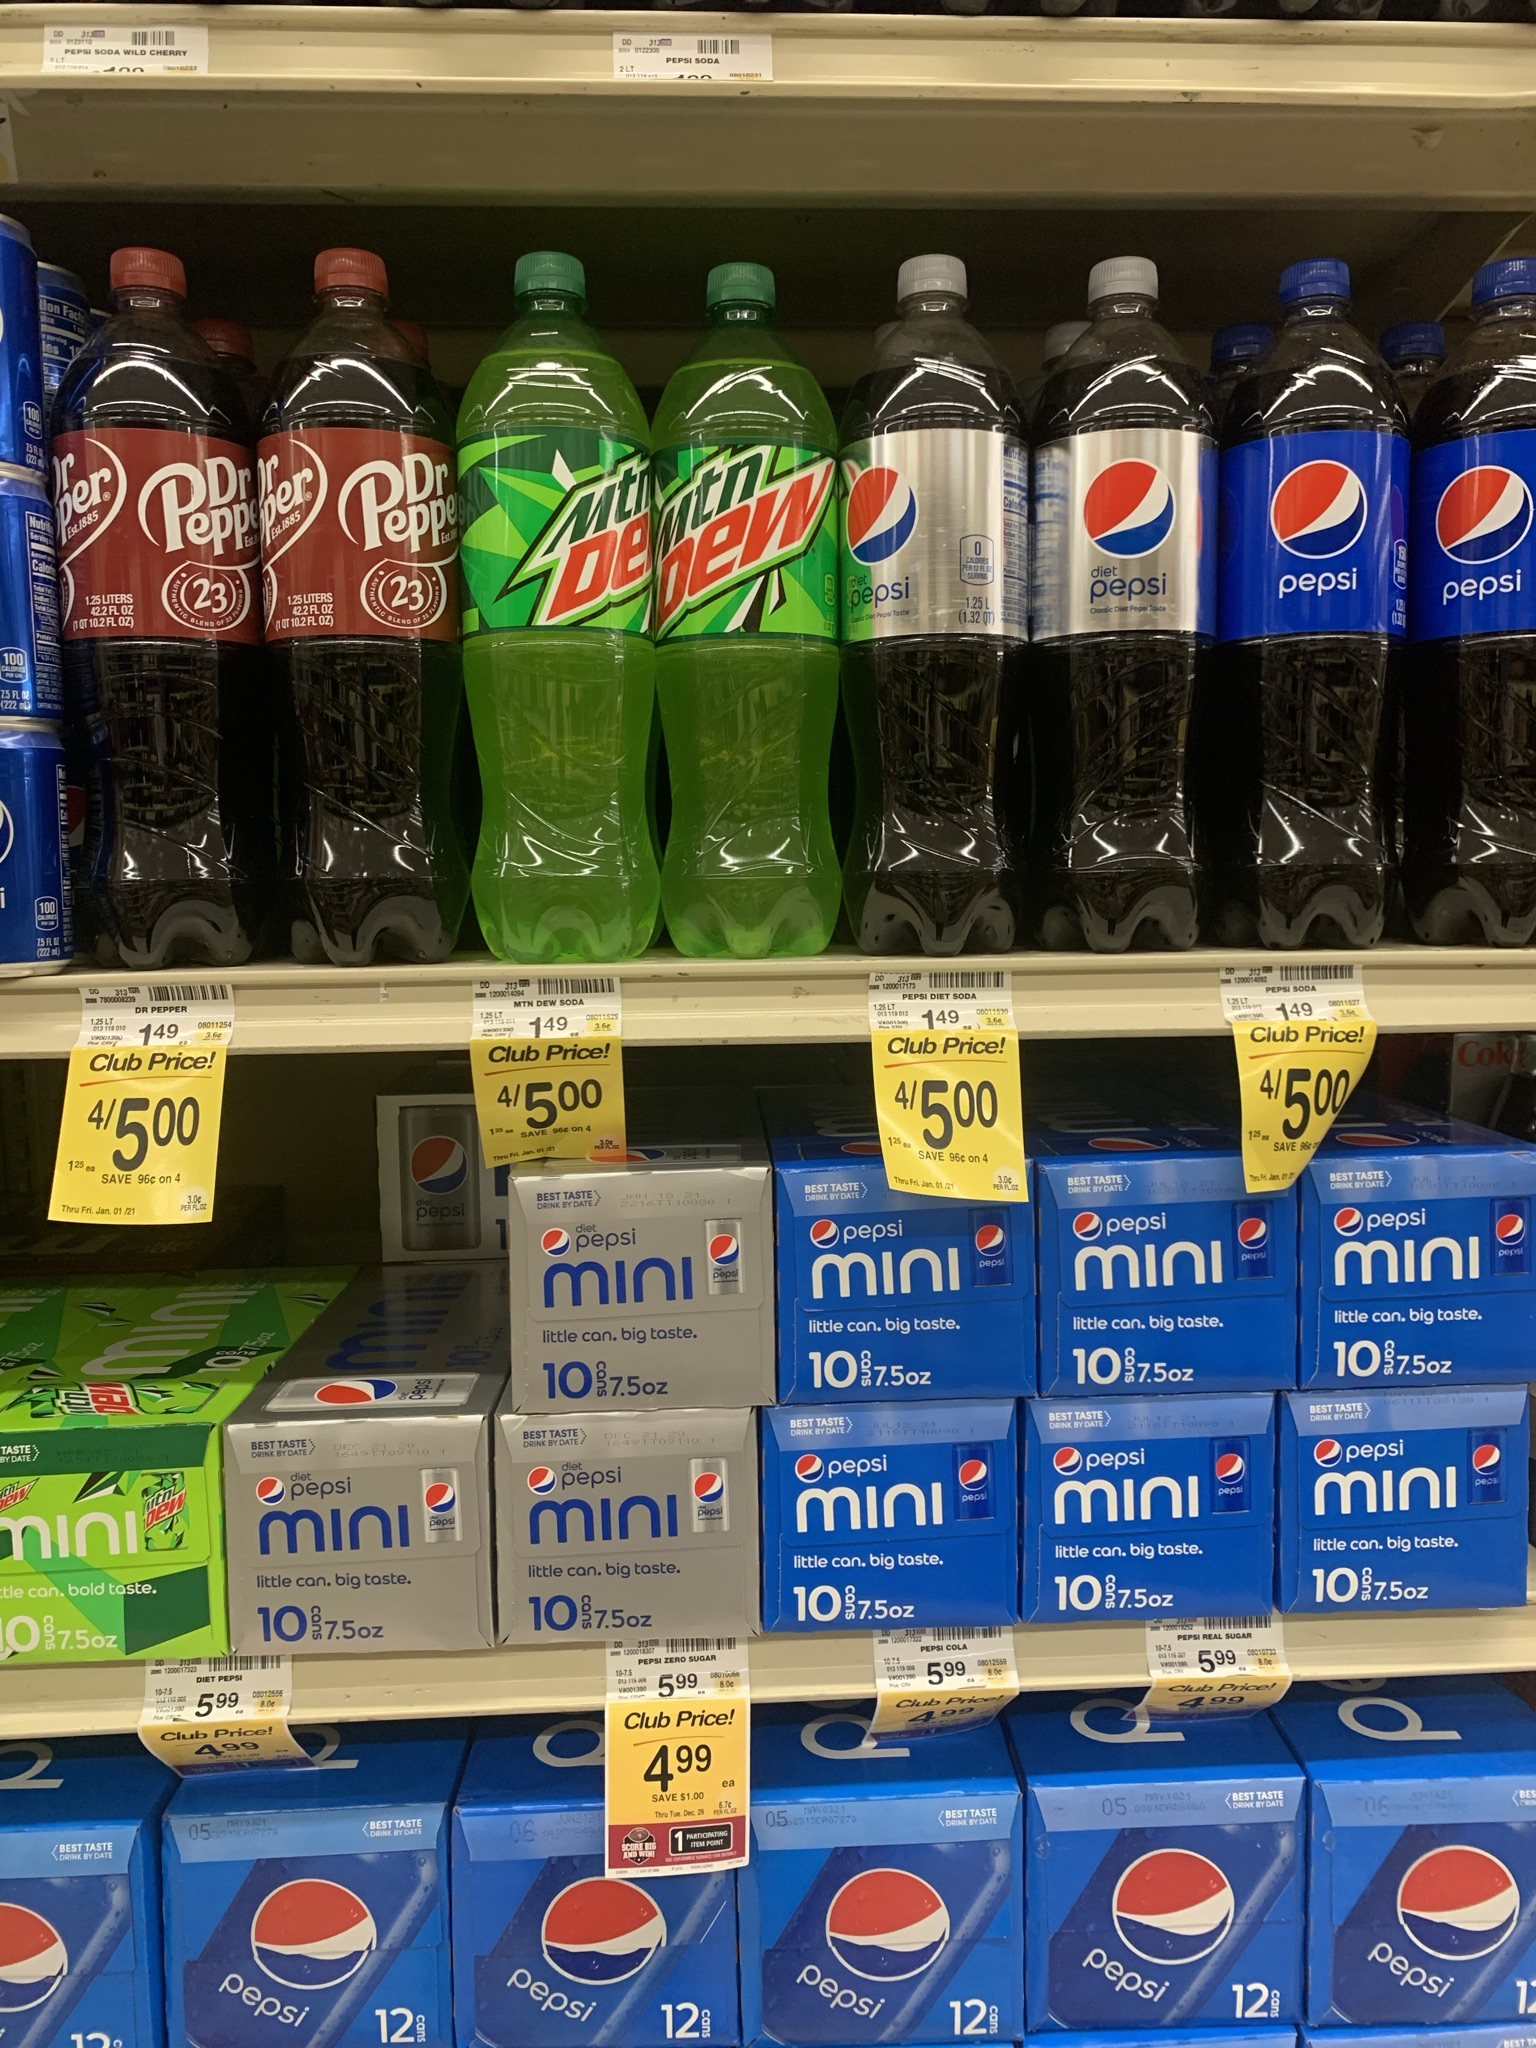box: (457, 1819, 752, 2048), (749, 1816, 1025, 2048), (181, 1825, 466, 2048), (486, 1413, 771, 1634), (1039, 1798, 1300, 2032), (216, 1427, 486, 1651), (508, 1177, 770, 1405), (791, 1177, 1046, 1405), (774, 1409, 1031, 1630), (1034, 1400, 1283, 1622), (1052, 1176, 1292, 1392), (1320, 1787, 1536, 2022), (1299, 1406, 1536, 1617), (1313, 1168, 1536, 1385), (6, 1443, 198, 1651)
